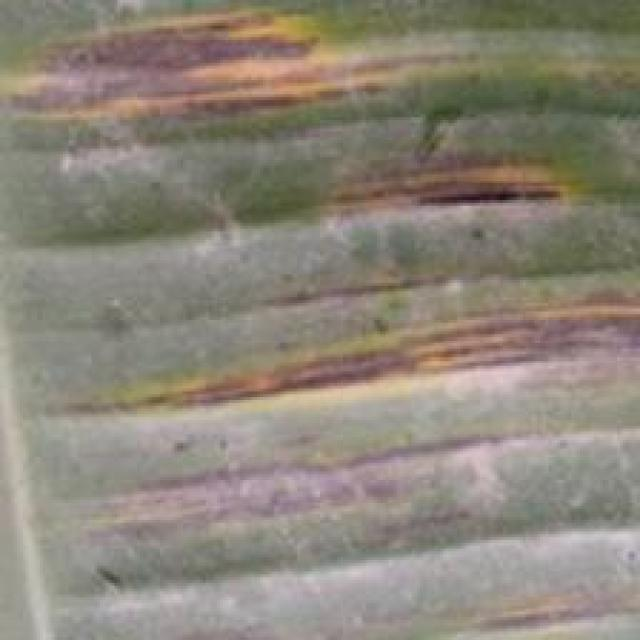Early_leaf_spot: (0, 293, 640, 422), (58, 437, 640, 560), (0, 0, 376, 137), (274, 90, 598, 233), (449, 574, 640, 634)
